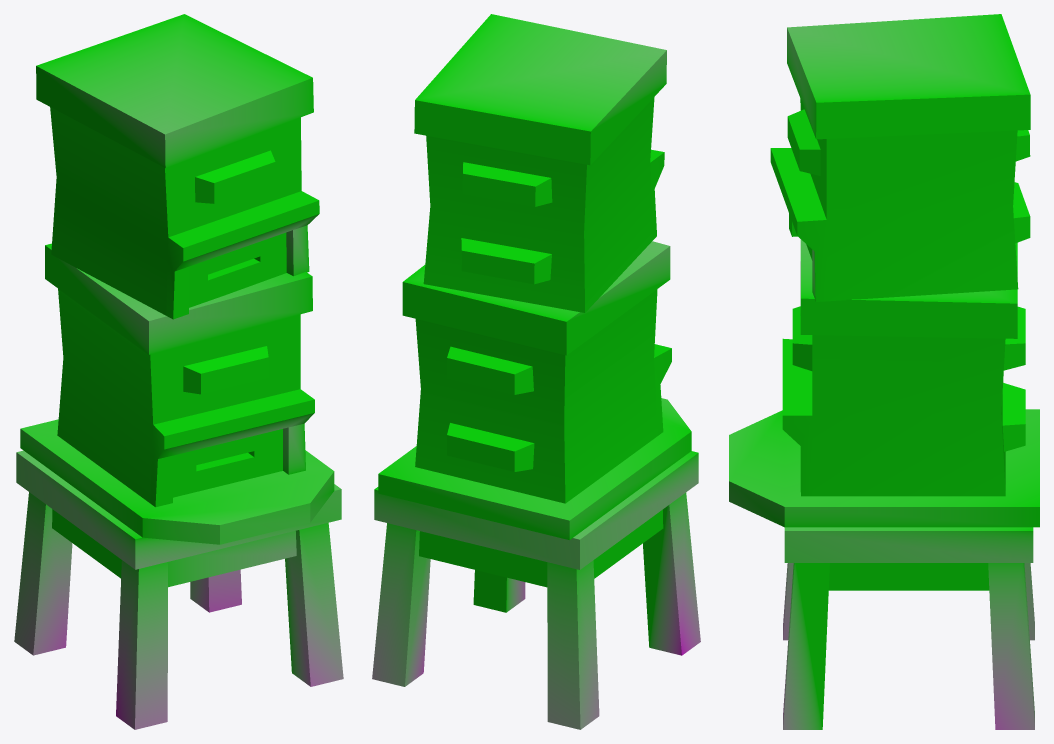
The picture shows the model from 3 angles, left to right: view 1: azimuth 30°, elevation 25°; view 2: azimuth 150°, elevation 25°; view 3: azimuth 270°, elevation 25°; orthographic projection. The views are drawn at different scales.
Parts seen in each view (by area): view 1: G:\FFXIV-MapTools\exports\f1f2\bg\ffxiv\fst_f1\fld\f1f2\bgpa; view 2: G:\FFXIV-MapTools\exports\f1f2\bg\ffxiv\fst_f1\fld\f1f2\bgpa; view 3: G:\FFXIV-MapTools\exports\f1f2\bg\ffxiv\fst_f1\fld\f1f2\bgpa.
Part boxes in pixels (<box>): G:\FFXIV-MapTools\exports\f1f2\bg\ffxiv\fst_f1\fld\f1f2\bgpa: <box>14,14,343,729</box>; G:\FFXIV-MapTools\exports\f1f2\bg\ffxiv\fst_f1\fld\f1f2\bgpa: <box>372,14,700,729</box>; G:\FFXIV-MapTools\exports\f1f2\bg\ffxiv\fst_f1\fld\f1f2\bgpa: <box>729,14,1039,729</box>.
Bounding box in the file's own units: 1.04 × 2.83 × 1.29.
